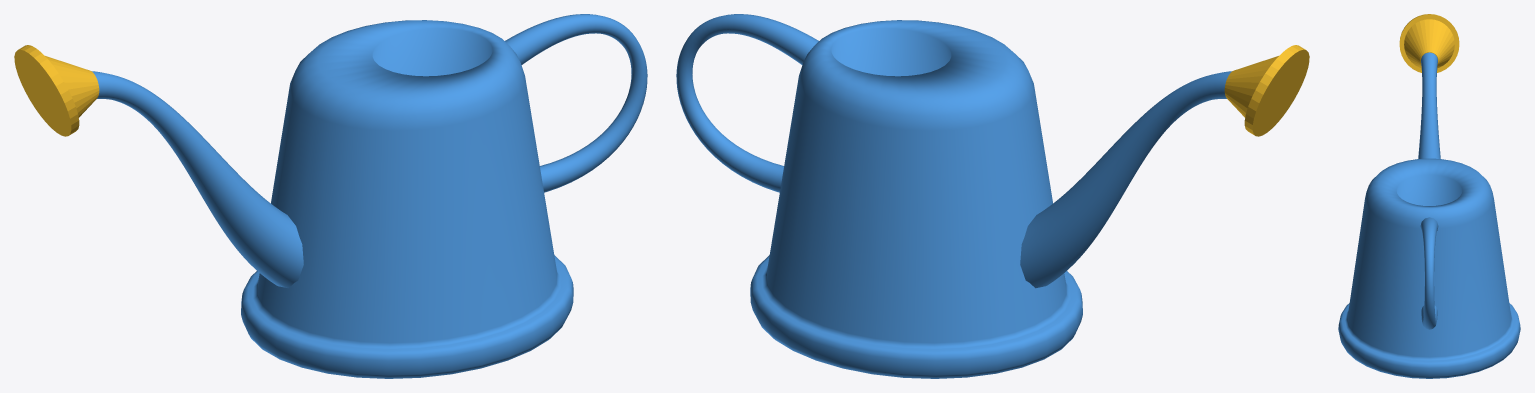
File: Lejkana.fbx
3 views of the same model, side by side, from view 1: azimuth 30°, elevation 25°; view 2: azimuth 150°, elevation 25°; view 3: azimuth 270°, elevation 25° (orthographic). The views are drawn at different scales.
Visible parts, largest first — view 1: Lejkanna; view 2: Lejkanna; view 3: Lejkanna.
Part boxes in pixels (x1,y1,x2,y2): Lejkanna: (14, 14, 647, 378); Lejkanna: (676, 14, 1309, 378); Lejkanna: (1338, 14, 1520, 378).
Bounding box in the file's own units: 51.9 × 28.59 × 22.13.
